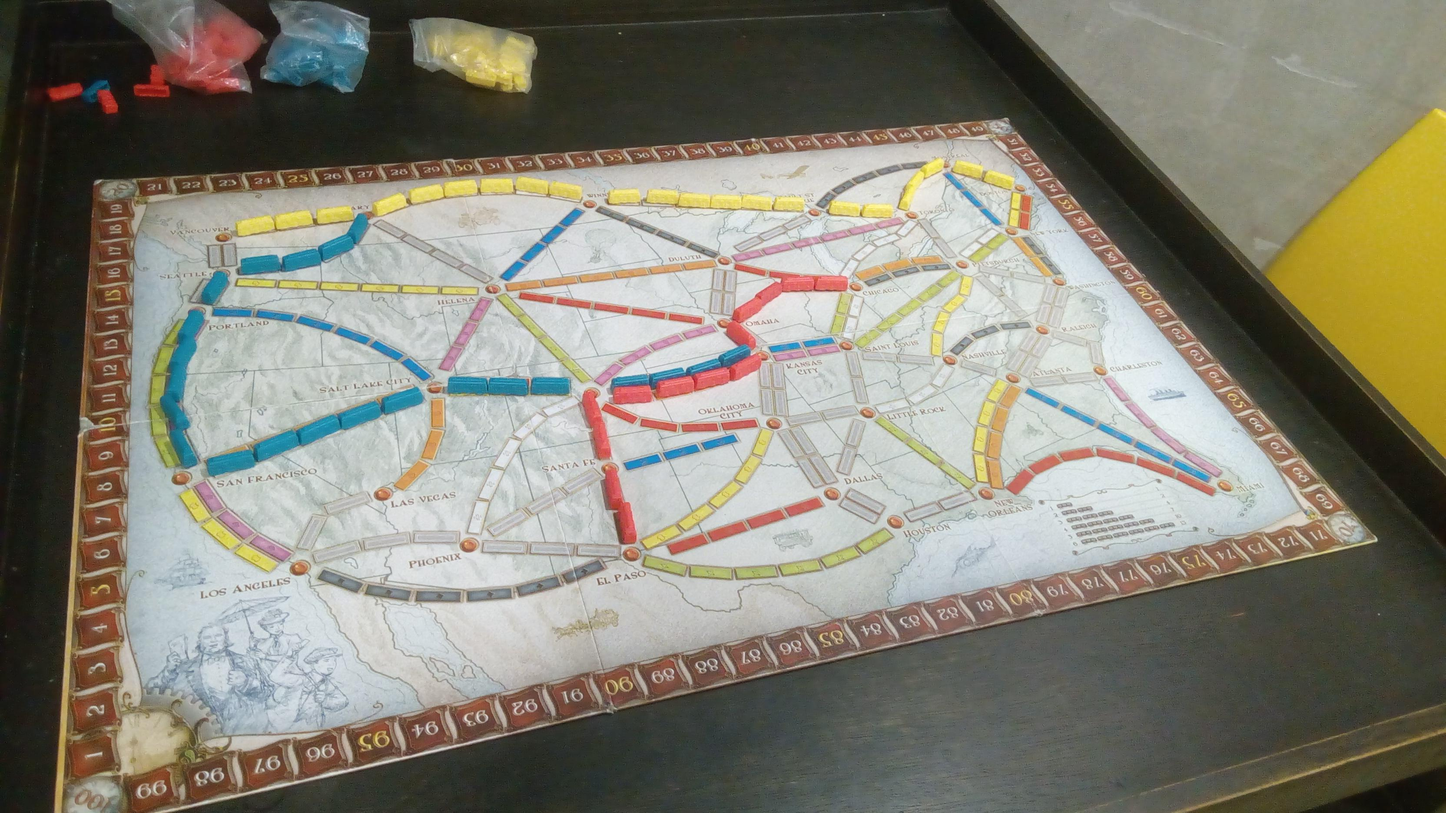corner_bl: (62, 774, 127, 813)
corner_br: (1325, 512, 1374, 546)
corner_tl: (99, 180, 138, 200)
corner_tr: (983, 116, 1016, 135)
